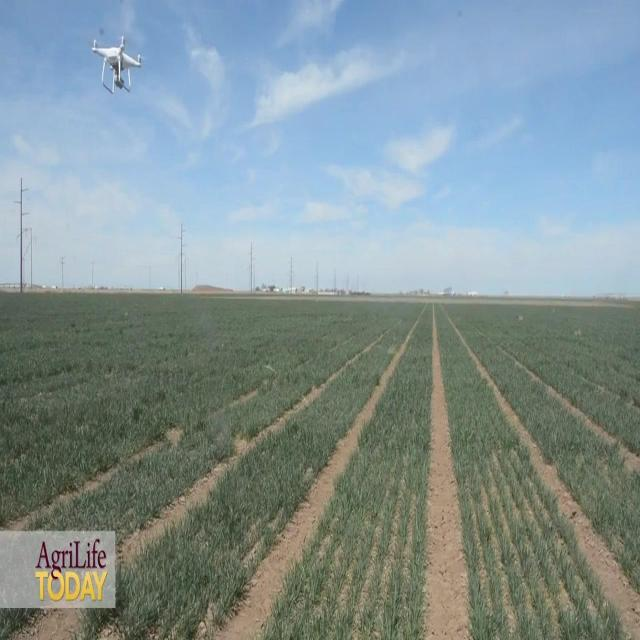drone: (90, 32, 148, 103)
